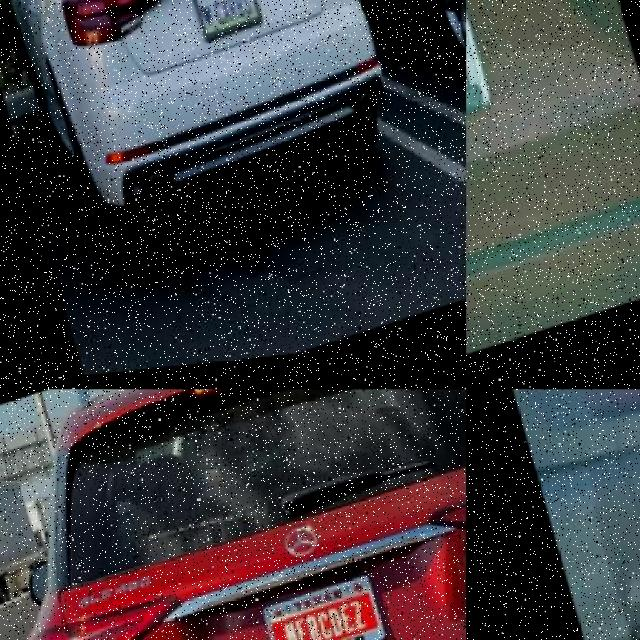licenseplate: (466, 0, 559, 160), (257, 581, 380, 640), (185, 0, 260, 43)
